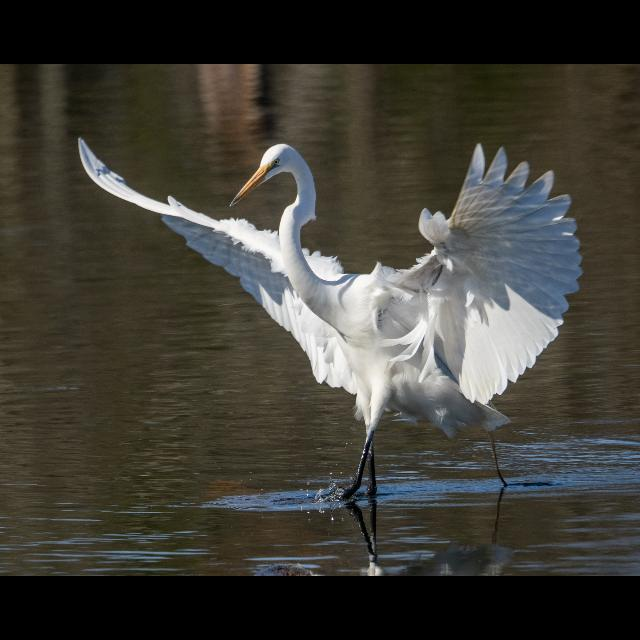egret: (64, 122, 592, 510)
